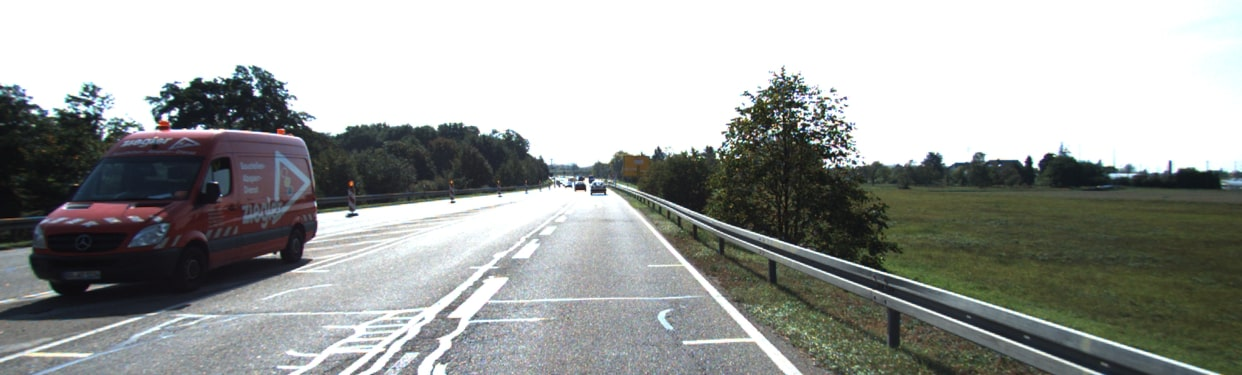car: (24, 124, 319, 298), (588, 177, 606, 195), (573, 179, 585, 194)
